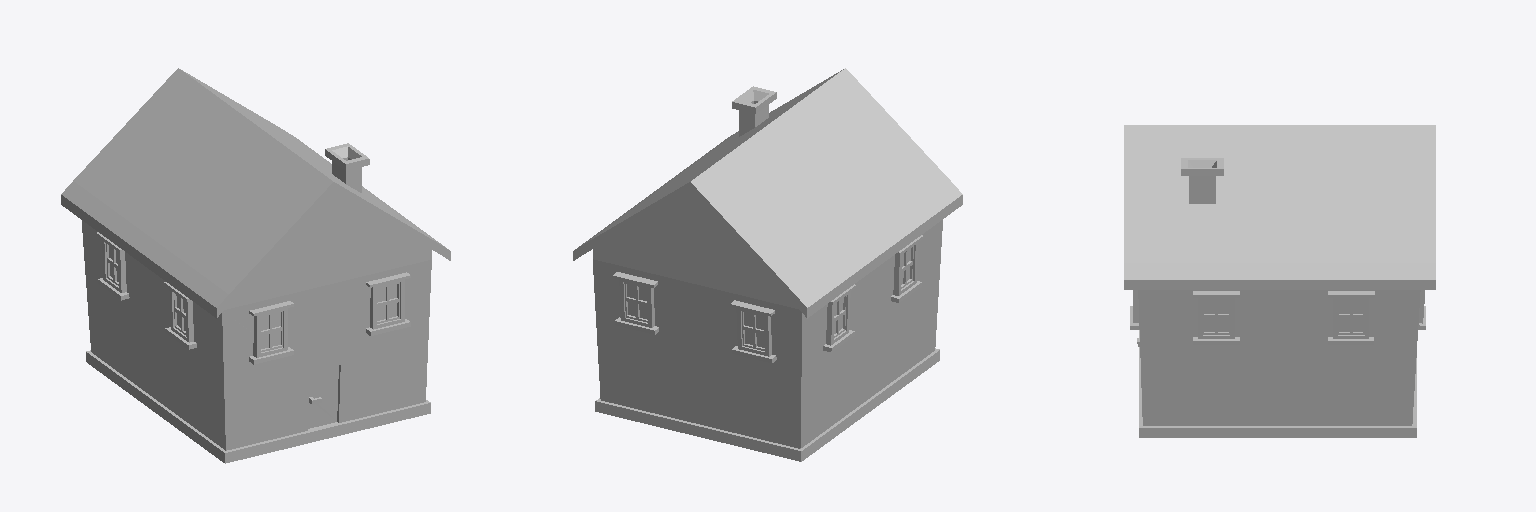
File: House2.obj
3 renders of one model, left to right at view 1: azimuth 30°, elevation 25°; view 2: azimuth 150°, elevation 25°; view 3: azimuth 270°, elevation 25°, orthographic.
Parts seen in each view (by area): view 1: House2_Cube.035; view 2: House2_Cube.035; view 3: House2_Cube.035.
Part boxes in pixels (left/top/right/bottom): House2_Cube.035: left=61, top=68, right=450, bottom=463; House2_Cube.035: left=573, top=68, right=962, bottom=461; House2_Cube.035: left=1124, top=125, right=1435, bottom=437.
Bounding box in the file's own units: 1.25 × 1.34 × 1.44.